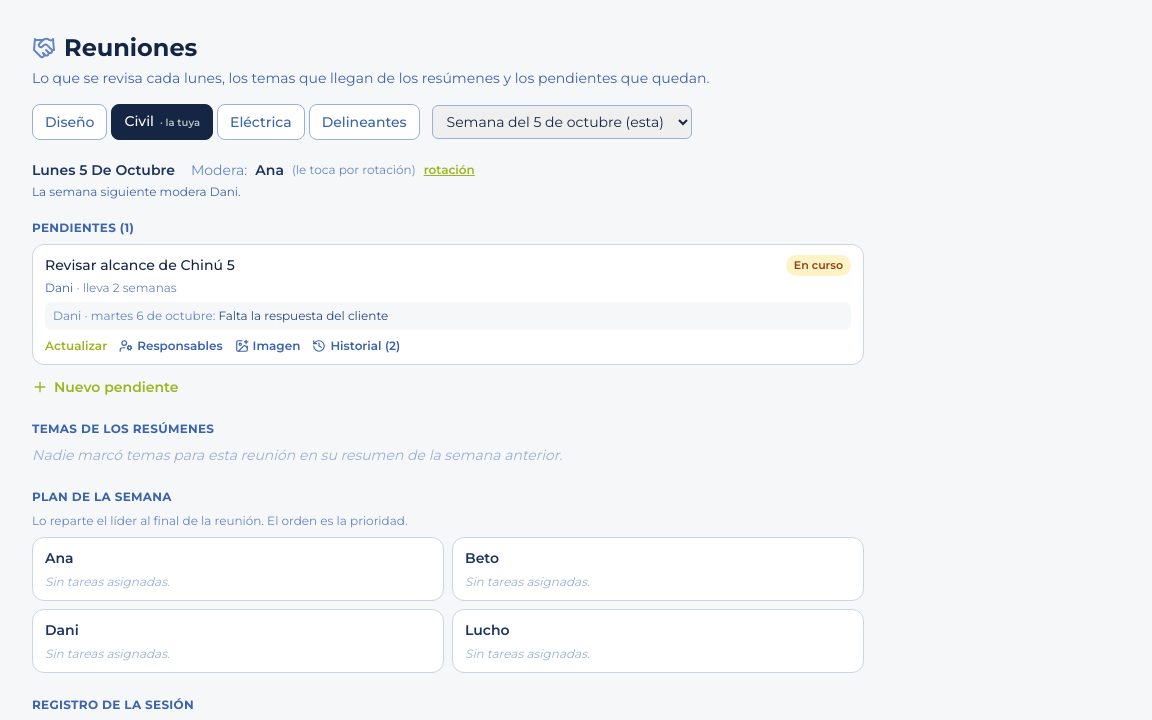
Test case: los pendientes › el historial muestra quién hizo qué
This screenshot has width=1152, height=720.
Click the button "Historial (2)".
click(356, 346)  # box [312,338,400,354]
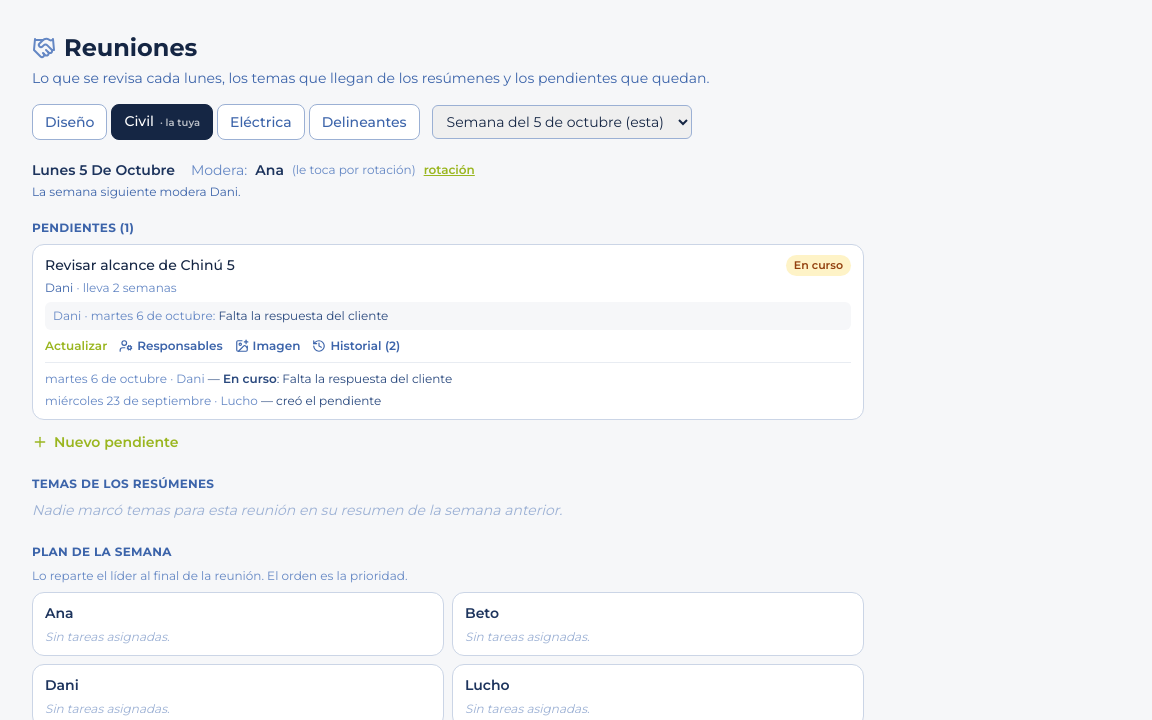
Check: the text "— creó el pendiente" is shown, box [258,392,381,408]
